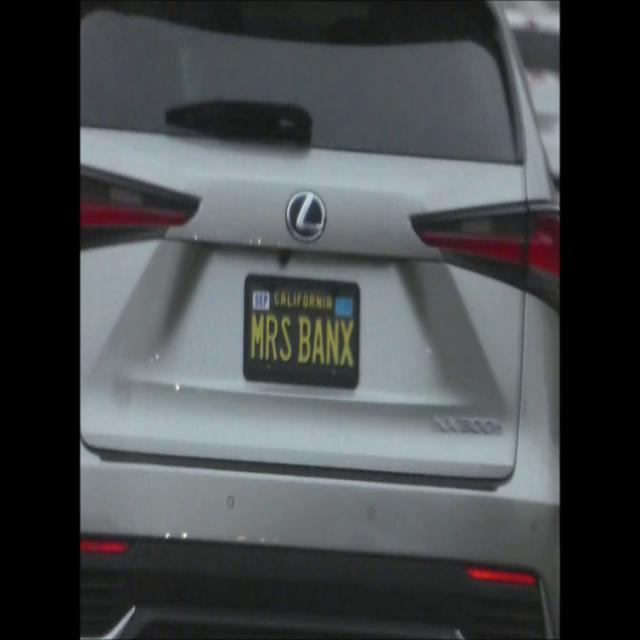LicensePlate: (244, 277, 359, 387)
